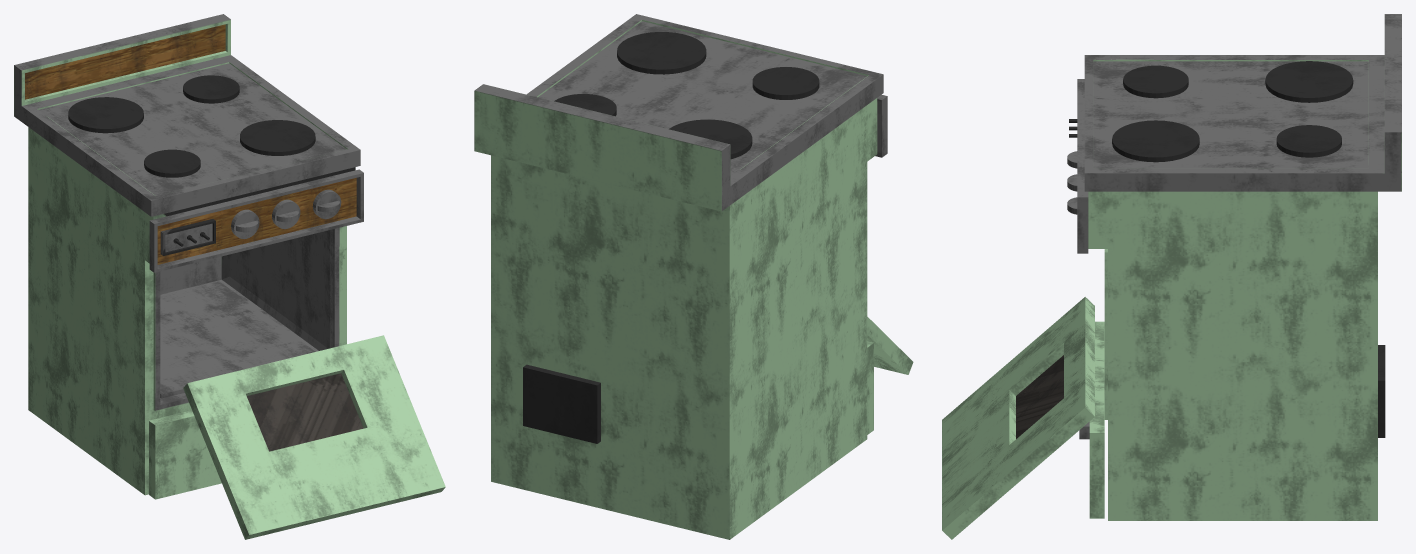
The model's file is oven.fbx.
3 renders of one model, left to right at view 1: azimuth 30°, elevation 25°; view 2: azimuth 150°, elevation 25°; view 3: azimuth 270°, elevation 25°, orthographic. The views are drawn at different scales.
Parts seen in each view (by area): view 1: Cube; view 2: Cube; view 3: Cube.
Boxes of the visible parts, <box> form: Cube: <box>14,14,445,539</box>; Cube: <box>474,14,913,539</box>; Cube: <box>942,14,1401,539</box>.
Bounding box in the file's own units: 311 × 435 × 460.
Materials: 1 (1 with a texture image).
